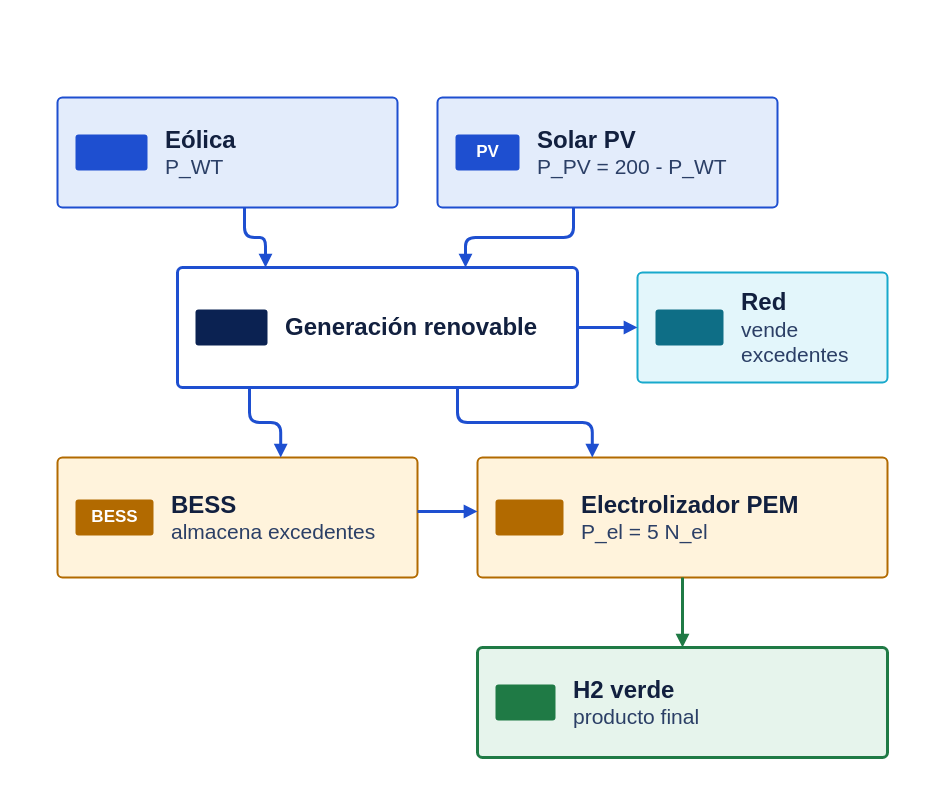
This 925x795 diagram has some shape labels left out. Each missing label, with the centre of its shape:
"EOL" belongs at (x=111, y=152).
"GEN" belongs at (x=231, y=327).
"H2" belongs at (x=525, y=702).
"PEM" belongs at (x=529, y=517).
"RED" belongs at (x=689, y=327).
